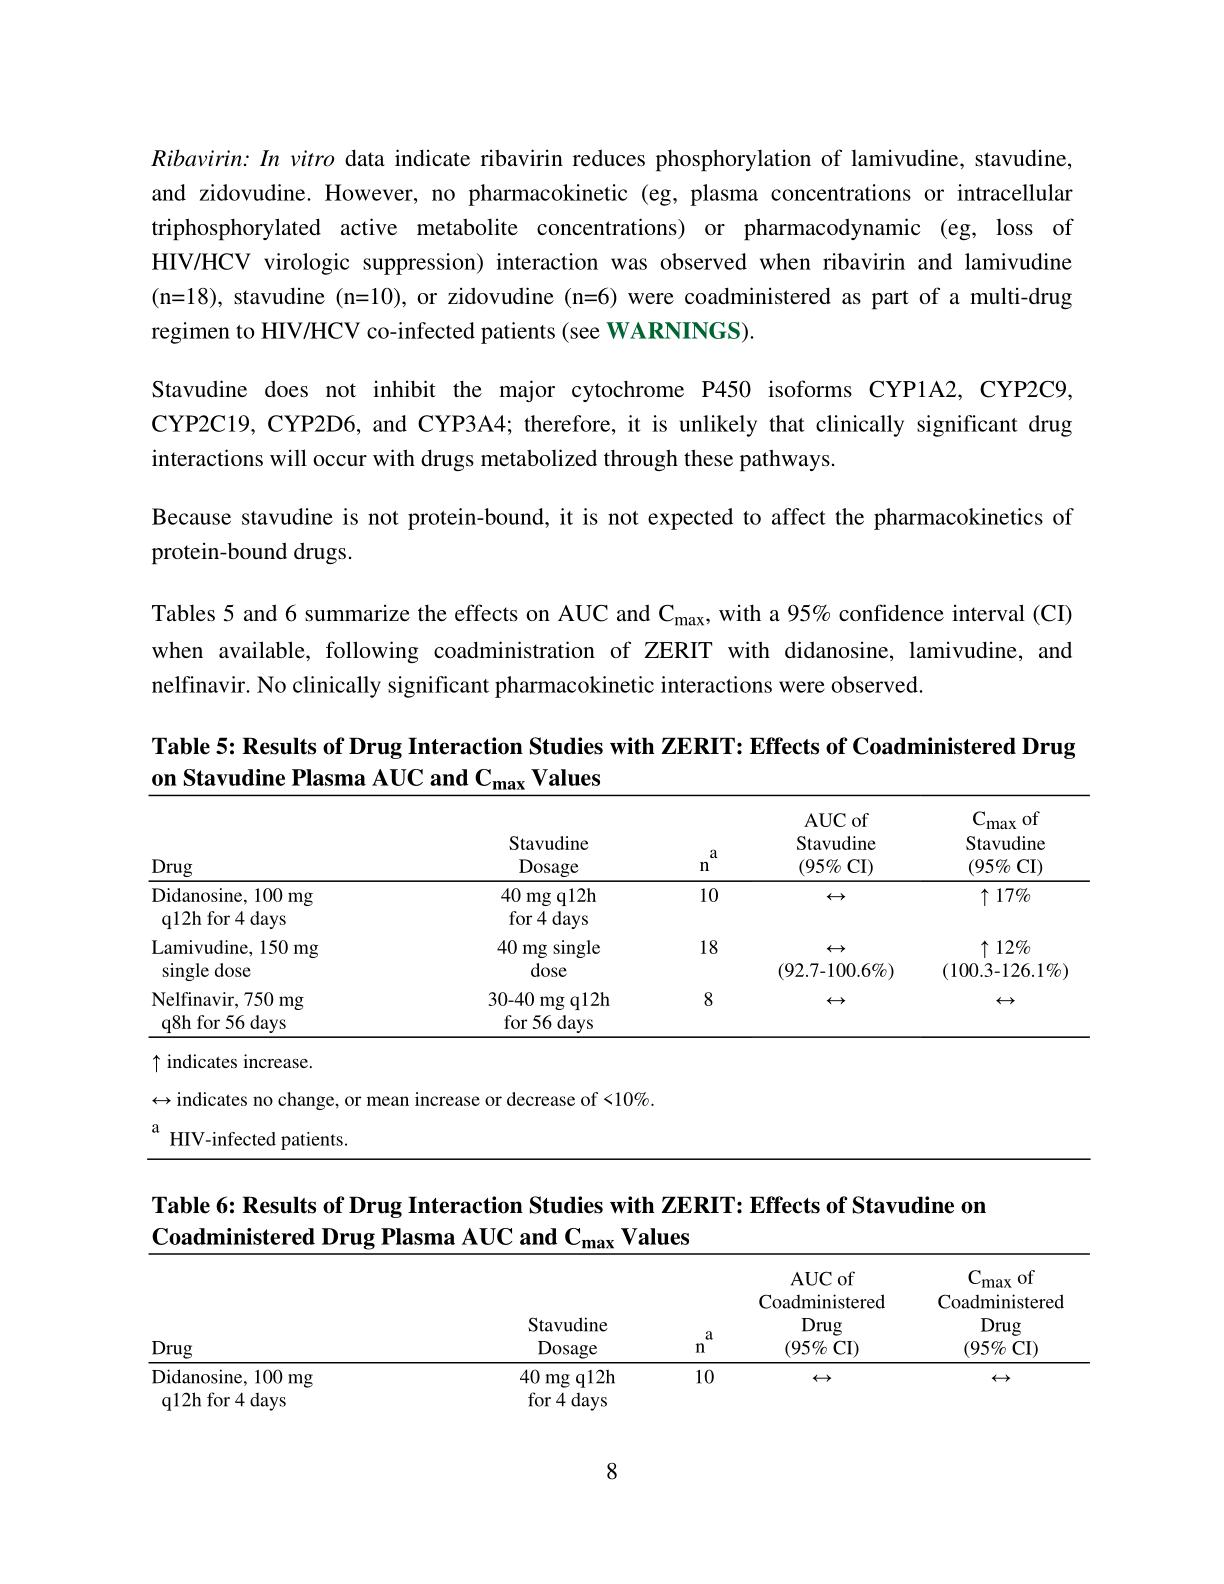partial_lined: (147, 792, 1092, 1040), (147, 1251, 1092, 1416)
